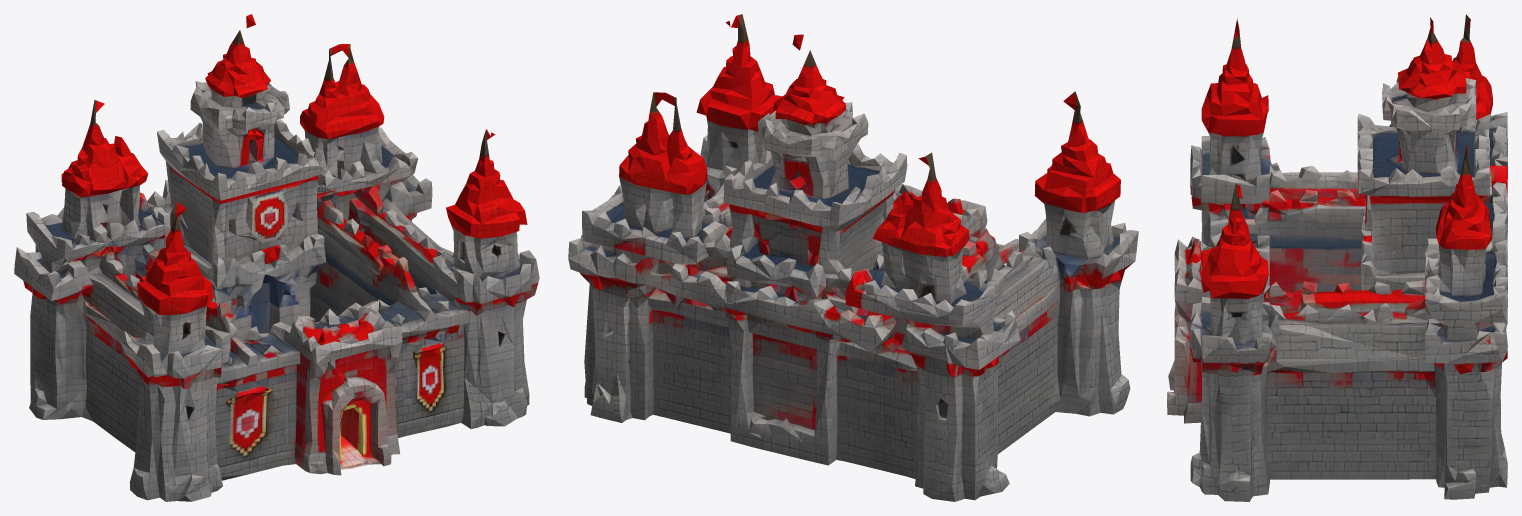
Rendered from castle_red.glb.
3 views of the same model, side by side, from view 1: azimuth 30°, elevation 25°; view 2: azimuth 150°, elevation 25°; view 3: azimuth 270°, elevation 25° (orthographic). The views are drawn at different scales.
Visible parts, largest first — view 1: Mesh; view 2: Mesh; view 3: Mesh.
Part boxes in pixels (x1,y1,x2,y2): Mesh: (14,14,539,501); Mesh: (568,14,1138,501); Mesh: (1167,14,1507,501).
Size of the model in its own units: 1.89 by 1.69 by 1.34.
Materials: 1 (1 with a texture image).
